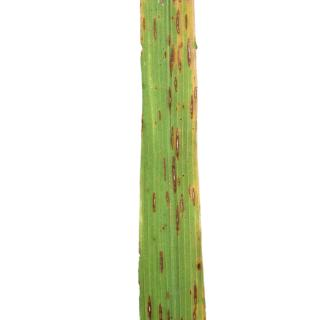Bercak-Cokelat-Sempit: (163, 124, 204, 234), (159, 78, 201, 117), (144, 293, 183, 320), (168, 41, 196, 71), (140, 15, 165, 47), (172, 7, 198, 36), (189, 281, 200, 320), (156, 250, 168, 277), (148, 192, 160, 214), (193, 263, 205, 281)
